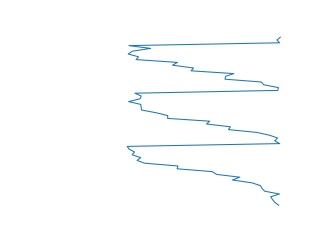distributaryMouthBar: (124, 35, 286, 209)
